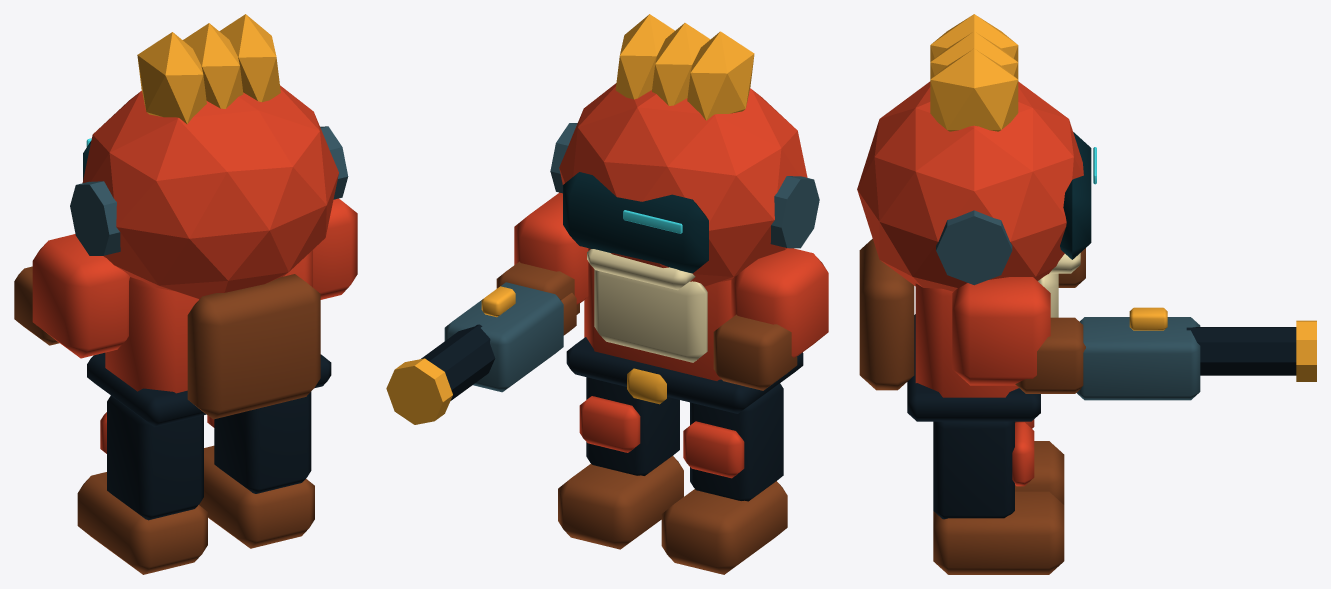
File: raider.glb
3 views of the same model, side by side, from view 1: azimuth 30°, elevation 25°; view 2: azimuth 150°, elevation 25°; view 3: azimuth 270°, elevation 25° (orthographic). The views are drawn at different scales.
Parts seen in each view (by area): view 1: Helmet, Pack, Sleeve, Trousers, Trousers.001, Torso, Boot, Boot.001, crest, Belt, Sleeve.001, crest.002 (+4 smaller); view 2: Helmet, Face, Boot, Chest plate, Boot.001, Sleeve, Receiver, Trousers, Belt, Glove, Trousers.001, crest (+15 smaller); view 3: Helmet, Sleeve.001, Receiver, Boot.001, Trousers.001, Pack, crest.002, Barrel, Torso, Ear.001, Belt, Glove.001 (+7 smaller).
Part boxes in pixels (x1,y1,x2,y2): Helmet: [82, 85, 338, 298]; Pack: [187, 274, 320, 419]; Sleeve: [32, 234, 129, 358]; Trousers: [107, 395, 203, 520]; Trousers.001: [214, 391, 311, 493]; Torso: [105, 250, 312, 393]; Boot: [77, 472, 207, 574]; Boot.001: [199, 445, 314, 548]; crest: [137, 32, 206, 123]; Belt: [87, 352, 331, 427]; Sleeve.001: [313, 198, 357, 299]; crest.002: [219, 14, 280, 102]; Helmet: [559, 83, 807, 286]; Face: [563, 172, 708, 273]; Boot: [661, 481, 787, 574]; Chest plate: [594, 269, 707, 362]; Boot.001: [558, 456, 683, 549]; Sleeve: [731, 248, 828, 357]; Receiver: [444, 282, 563, 392]; Trousers: [690, 383, 783, 501]; Belt: [566, 337, 803, 413]; Glove: [713, 314, 797, 390]; Trousers.001: [586, 377, 679, 475]; crest: [687, 31, 754, 120]; Helmet: [857, 81, 1083, 291]; Sleeve.001: [952, 277, 1050, 385]; Receiver: [1076, 317, 1200, 400]; Boot.001: [933, 491, 1064, 574]; Trousers.001: [933, 421, 1014, 519]; Pack: [859, 239, 914, 390]; crest.002: [930, 48, 1018, 131]; Barrel: [1186, 327, 1296, 375]; Torso: [915, 283, 1018, 397]; Ear.001: [936, 210, 1012, 285]; Belt: [907, 314, 1040, 421]; Glove.001: [1015, 317, 1085, 393].
Bounding box in the file's own units: 1.2 × 2.05 × 1.69.
